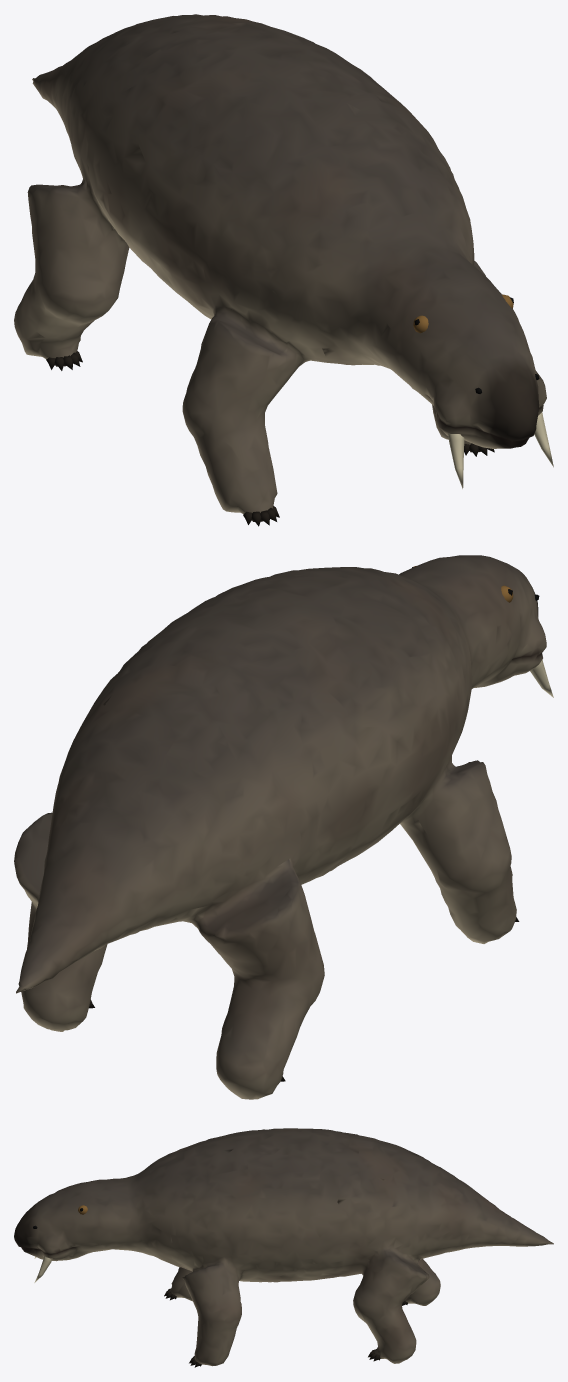
Rendered from Placerias.fbx.
3 views of the same model, one above another, from view 1: azimuth 30°, elevation 25°; view 2: azimuth 150°, elevation 25°; view 3: azimuth 270°, elevation 25° (orthographic). The views are drawn at different scales.
Parts seen in each view (by area): view 1: Placerias; view 2: Placerias; view 3: Placerias.
Part boxes in pixels (x1,y1,x2,y2): Placerias: [14, 14, 553, 526]; Placerias: [14, 555, 553, 1099]; Placerias: [14, 1128, 553, 1367].
Bounding box in the file's own units: 0.6351 × 0.6899 × 1.71.
